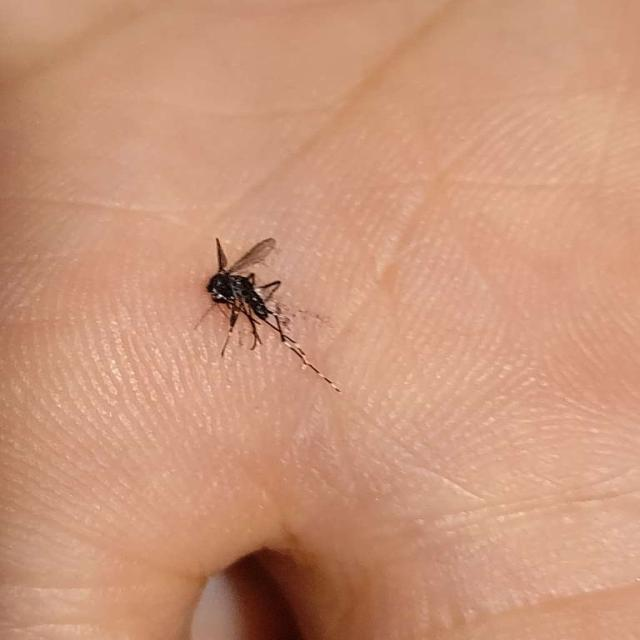albopictus: (185, 232, 344, 396)
